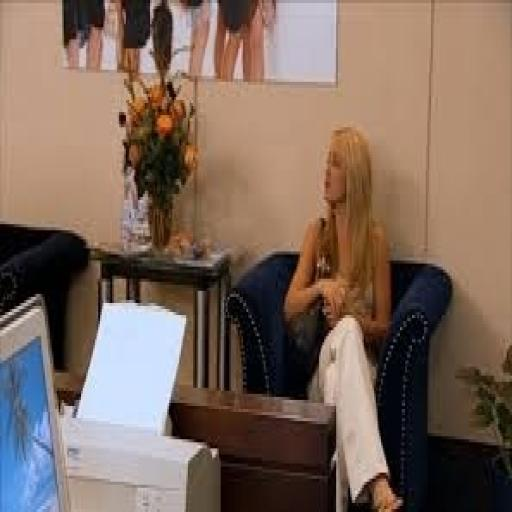sitting: (280, 118, 454, 506)
